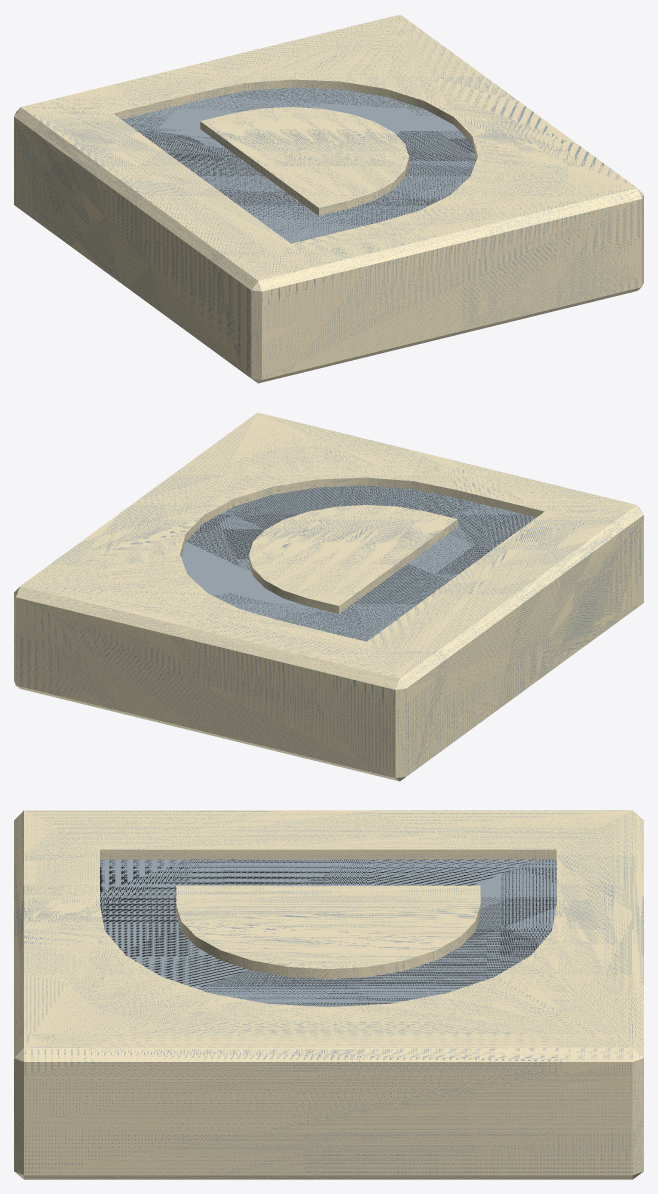
The model's file is Boardgame_Anagram_Tile_D.fbx.
3 renders of one model, top to bottom at view 1: azimuth 30°, elevation 25°; view 2: azimuth 150°, elevation 25°; view 3: azimuth 270°, elevation 25°, orthographic. The views are drawn at different scales.
Parts seen in each view (by area): view 1: Model; view 2: Model; view 3: Model.
Part boxes in pixels (bbox=[...]): Model: bbox=[14, 14, 643, 383]; Model: bbox=[14, 412, 643, 781]; Model: bbox=[14, 810, 643, 1179].
Size of the model in its own units: 195 by 48.83 by 212.
